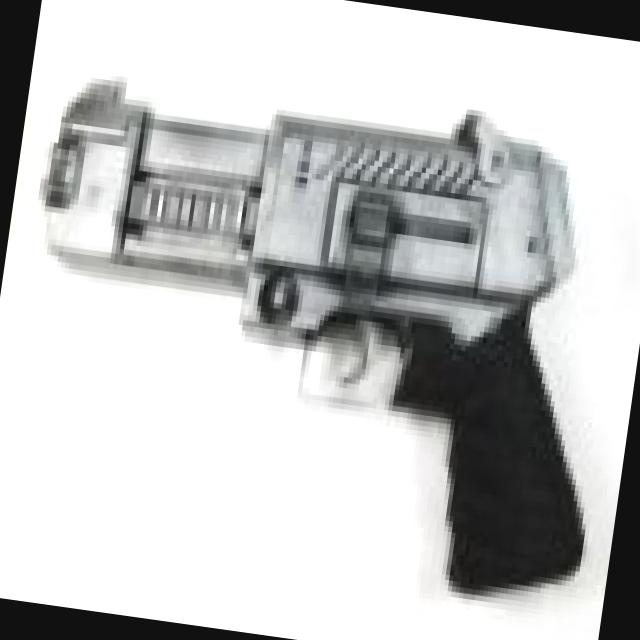handgun: (0, 63, 639, 605)
